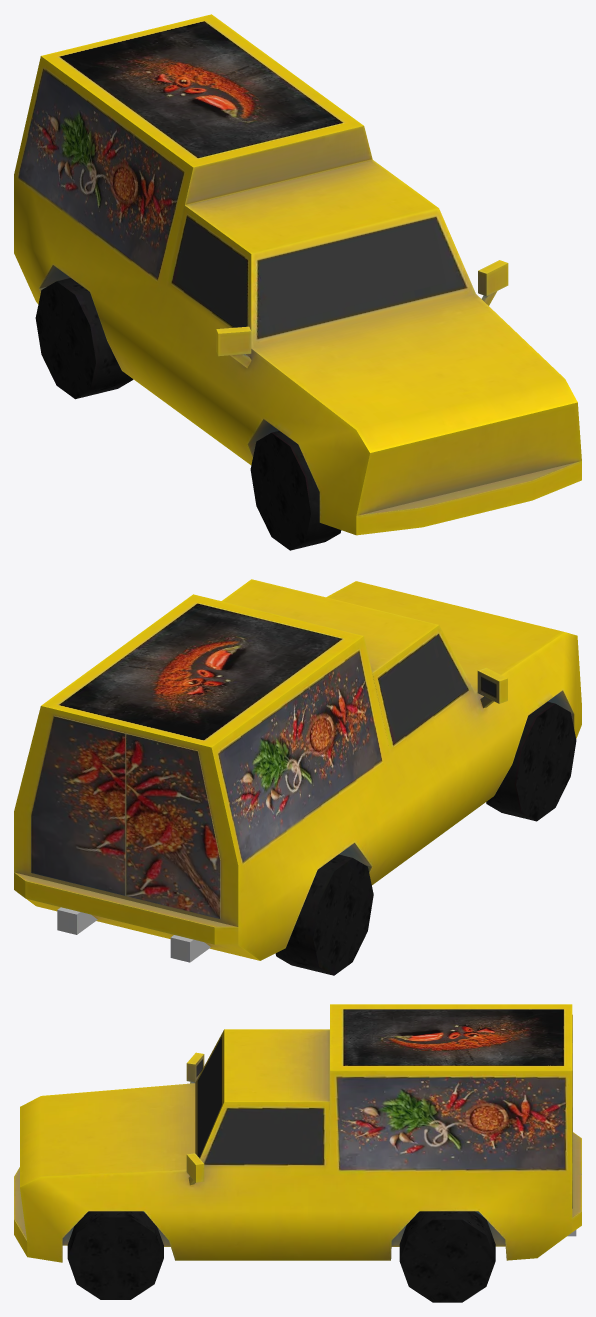
File: gadi-transformed.glb
3 views of the same model, one above another, from view 1: azimuth 30°, elevation 25°; view 2: azimuth 150°, elevation 25°; view 3: azimuth 270°, elevation 25° (orthographic). The views are drawn at different scales.
Parts seen in each view (by area): view 1: Gadi; view 2: Gadi; view 3: Gadi.
Part boxes in pixels (x1=…): Gadi: x1=14, y1=14, x2=581, y2=550; Gadi: x1=14, y1=579, x2=581, y2=975; Gadi: x1=14, y1=1004, x2=581, y2=1302.
Size of the model in its own units: 1.12 by 0.9816 by 2.39.
1 material, 1 textured.
